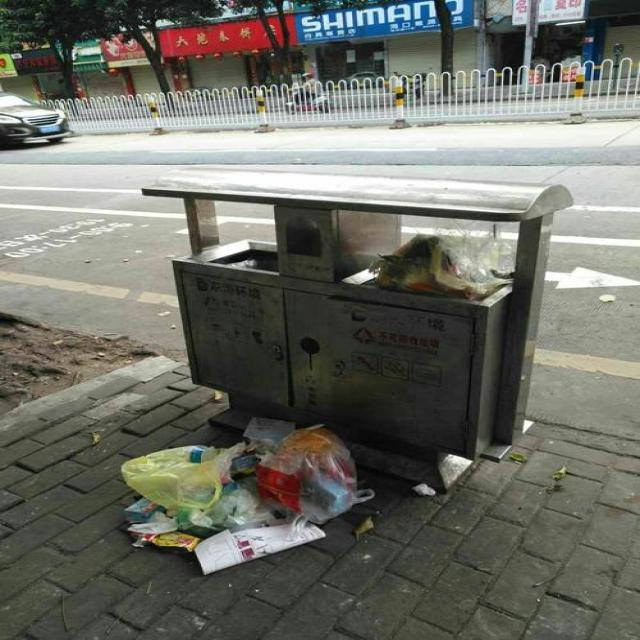garbage: (119, 414, 435, 574)
overflow: (142, 165, 574, 490)
